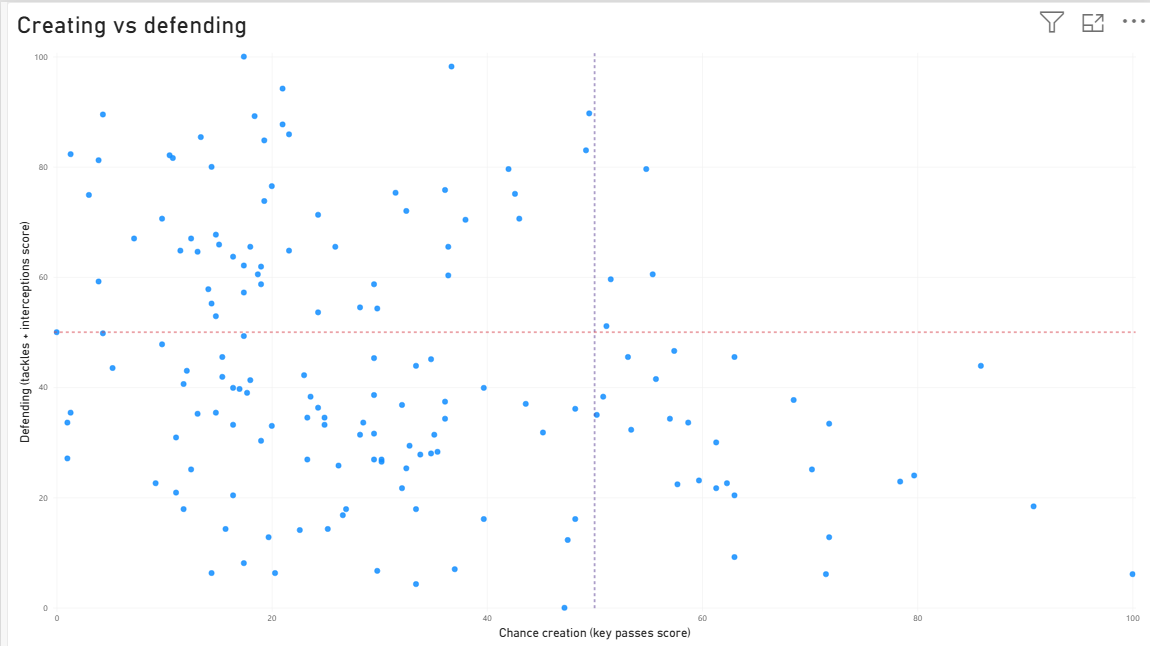

The dashboard page shown, as its layout file describes it:
{"tool":"powerbi","page":{"name":"Creator vs defender","canvas":[1920,1080],"ordinal":1},"visuals":[{"type":"scatterChart","title":"Creating vs defending","fields":{"Category":["scored_players.player"],"X":["Sum(scored_players.kp_score)"],"Y":["Sum(scored_players.tklint_score)"]},"box":[10,0,1910,1080],"z":0}]}

Visuals, with their boxes in screenshot pixels (x1, y1, x2, y2), scaled from the page's 1920x1080 canvas onto the 1150x646 screenshot:
"Creating vs defending" scatterChart: {"left": 6, "top": 0, "right": 1149, "bottom": 645}
